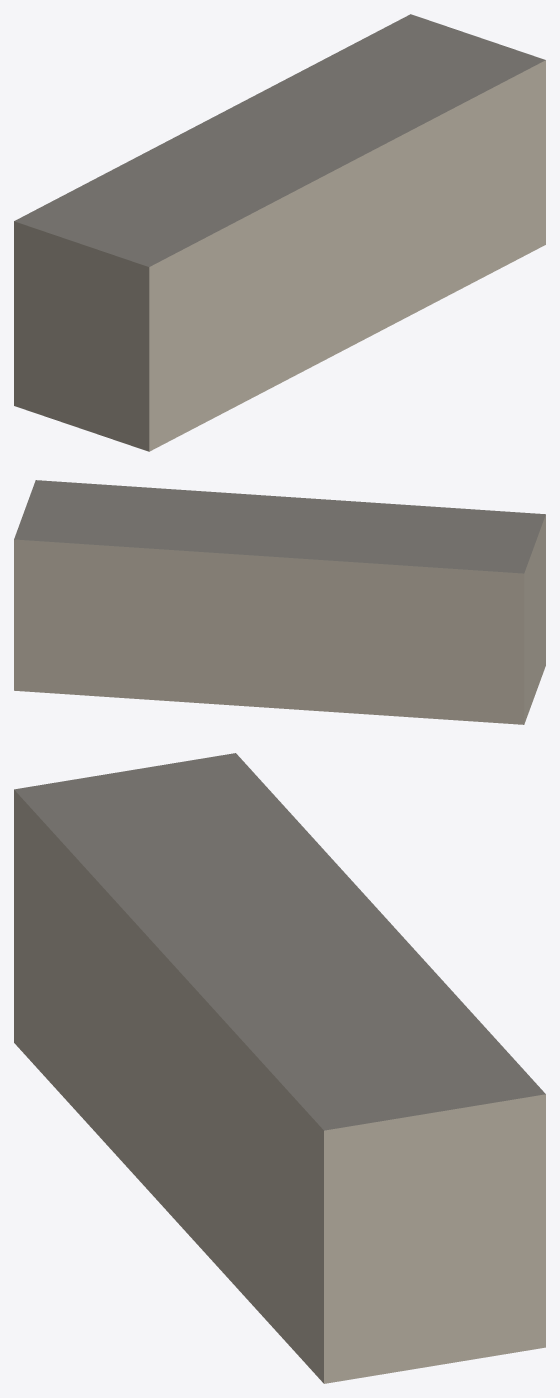
The picture shows the model from 3 angles, top to bottom: view 1: azimuth 30°, elevation 25°; view 2: azimuth 150°, elevation 25°; view 3: azimuth 270°, elevation 25°; orthographic projection. The views are drawn at different scales.
Visible parts, largest first — view 1: HP-w1211773150; view 2: HP-w1211773150; view 3: HP-w1211773150.
Part boxes in pixels (box(x1,y1,x2,y2)): HP-w1211773150: box(14, 14, 545, 451); HP-w1211773150: box(14, 480, 545, 724); HP-w1211773150: box(14, 753, 545, 1383).
Bounding box in the file's own units: 57.54 × 18 × 34.26.
